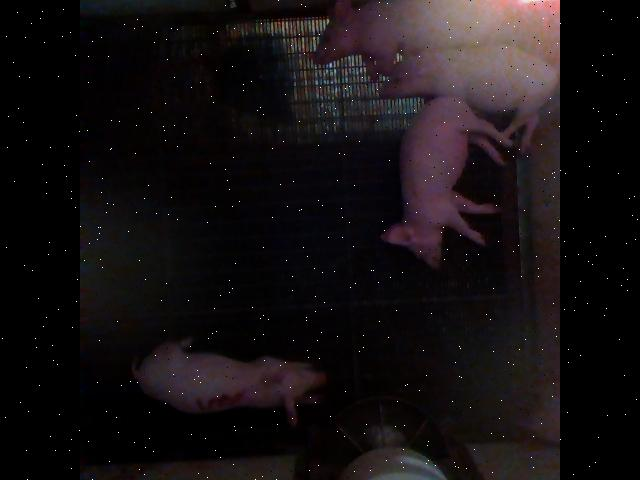pig-3: (132, 336, 326, 426)
